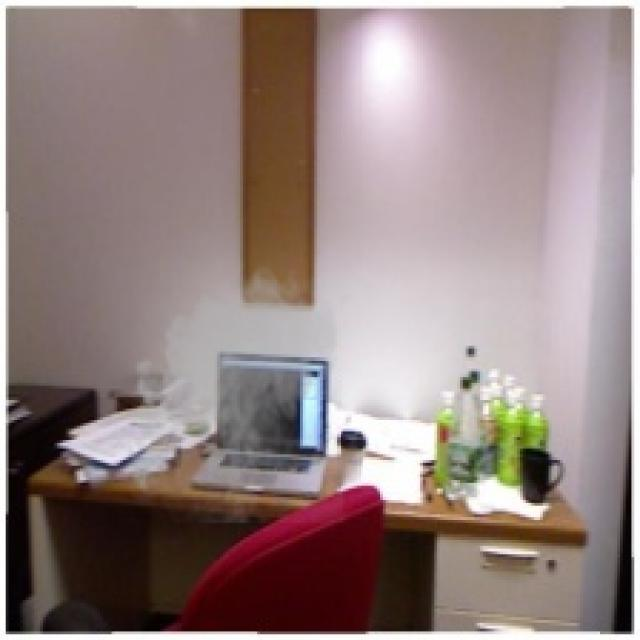Smoke: (120, 257, 346, 523)
